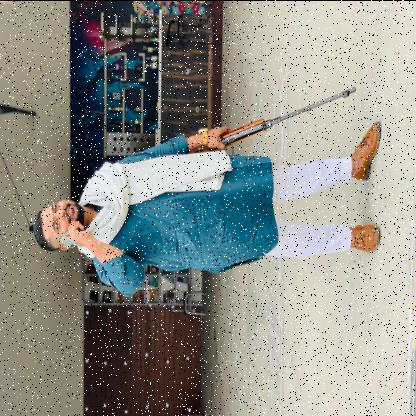rifle: (191, 83, 359, 154)
